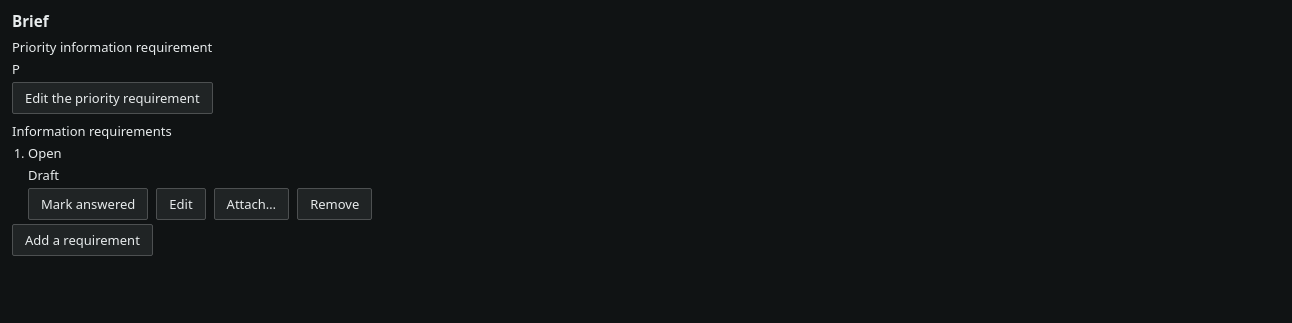
Test: CaseBrief › lets the Author edit a requirement's text with Save, and Escape cancels and returns focus to Edit
The image size is (1292, 323).
Click the button with aria-label "Edit requirement 1". click: (181, 204)
box: x1=156 y1=188 x2=206 y2=220
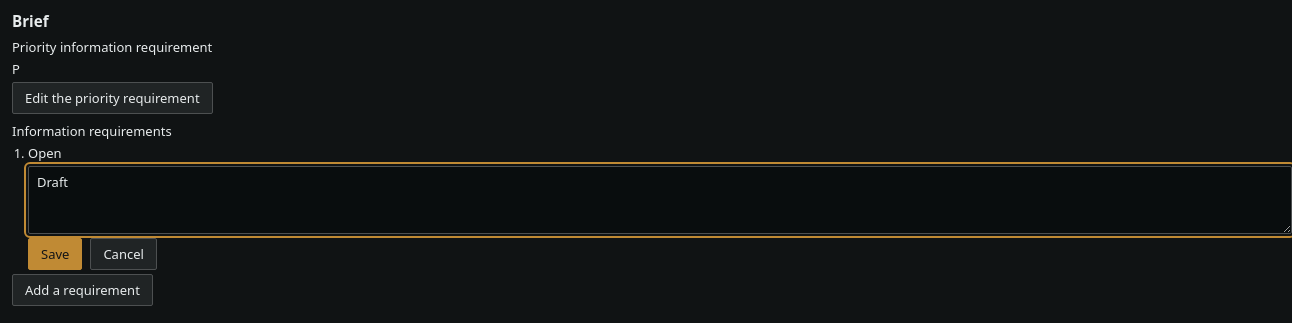
Replace the text in the text box named "Requirement 1" with "Dropped". click: (660, 200)
box: x1=28 y1=166 x2=1291 y2=234
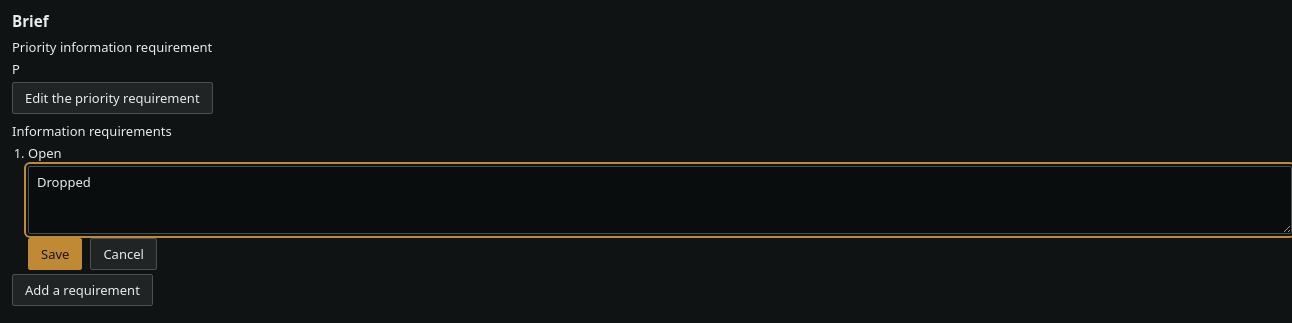
Press Escape in the text box named "Requirement 1", box x1=28 y1=166 x2=1291 y2=234
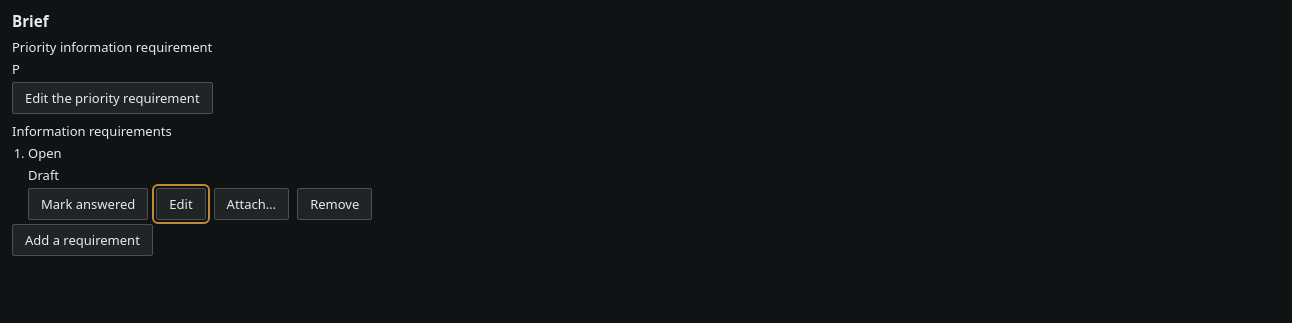
Now the text "Draft" is shown, box x1=28 y1=166 x2=59 y2=184
Click the button with aria-label "Edit requirement 1". click: (181, 204)
box: x1=156 y1=188 x2=206 y2=220
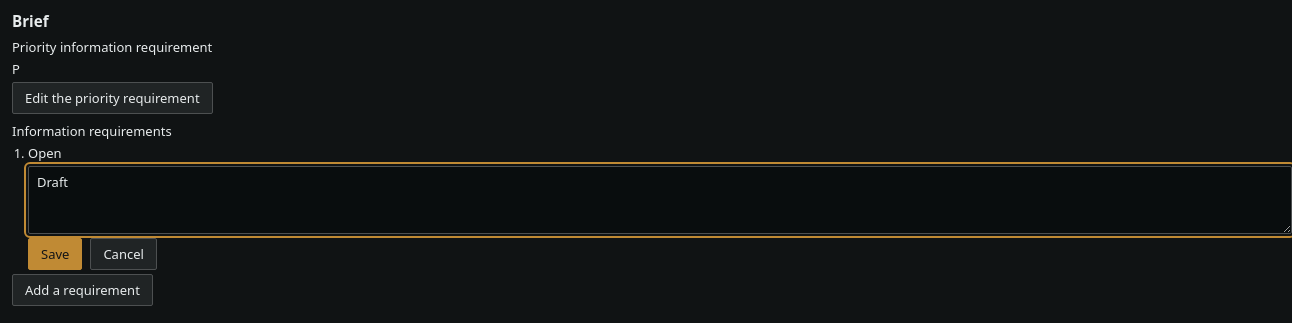
Replace the text in the text box named "Requirement 1" with "Final". click: (660, 200)
box: x1=28 y1=166 x2=1291 y2=234
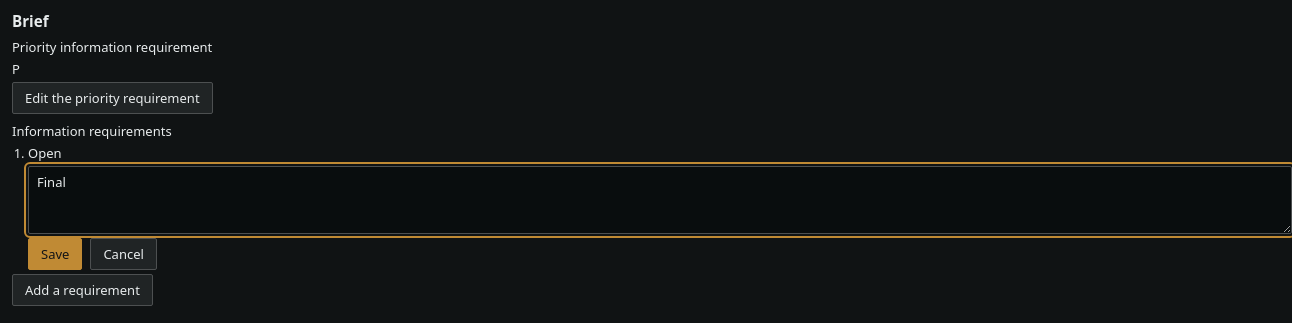
Click the button "Save". click: (55, 254)
box: x1=28 y1=238 x2=82 y2=270
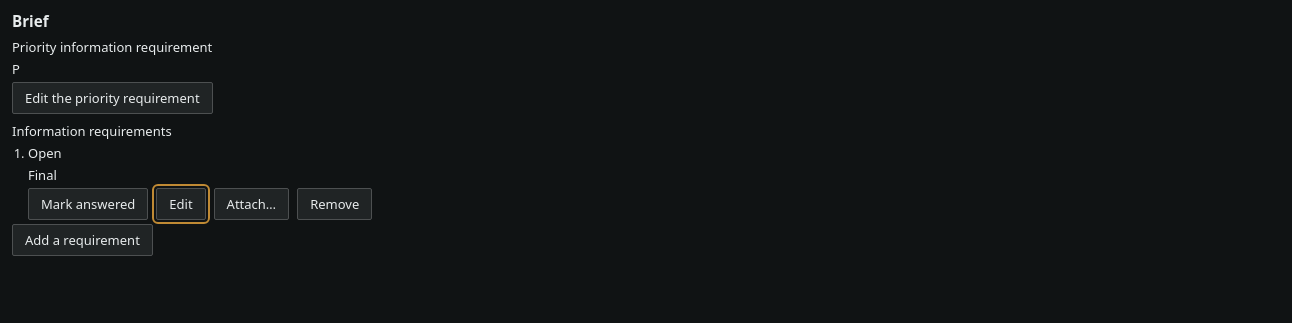
Now the text "Final" is shown, box x1=28 y1=166 x2=57 y2=184
